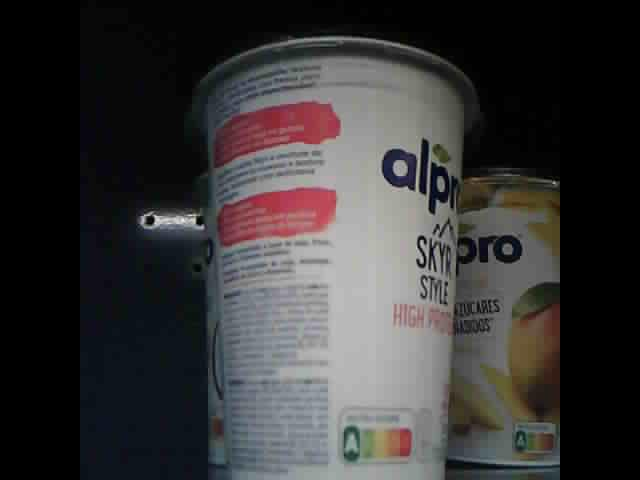alpro: (188, 34, 481, 480), (448, 163, 560, 466)
